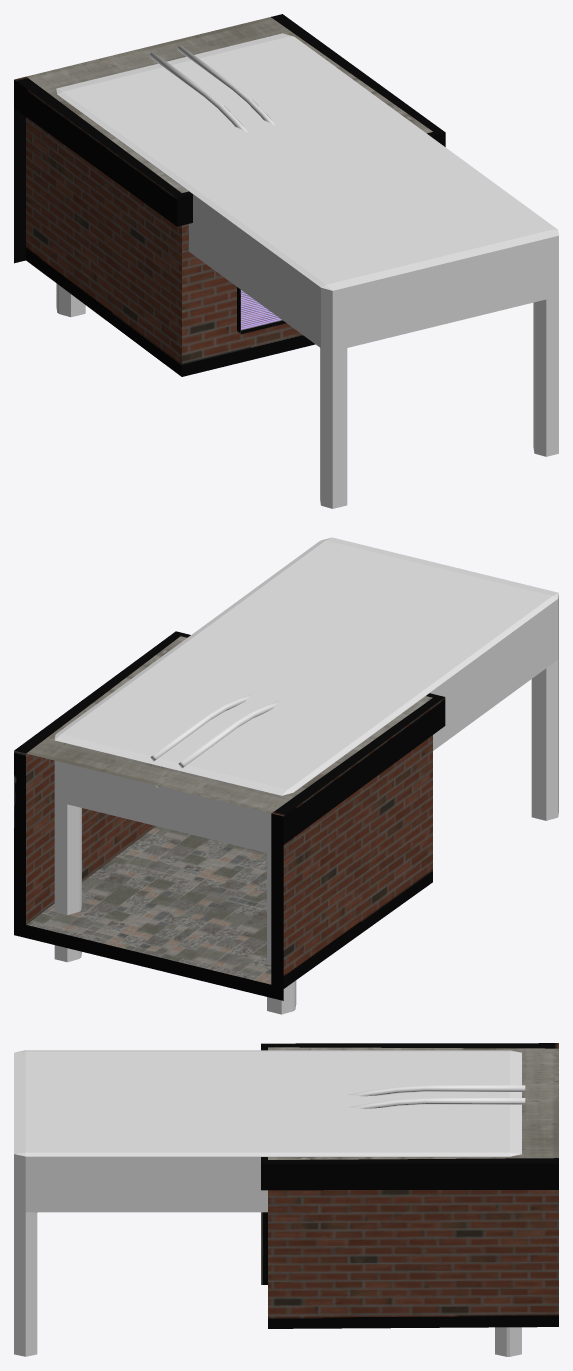
Rendered from Rail4.fbx.
3 renders of one model, top to bottom at view 1: azimuth 30°, elevation 25°; view 2: azimuth 150°, elevation 25°; view 3: azimuth 270°, elevation 25°, orthographic. The views are drawn at different scales.
Visible parts, largest first — view 1: TableLegs, Wall, Rail, Venetian_slats; view 2: TableLegs, Wall, Rail; view 3: TableLegs, Wall, Rail.
Boxes of the visible parts, x1=… form: TableLegs: x1=56, y1=33, x2=558, y2=508; Wall: x1=14, y1=14, x2=445, y2=376; Rail: x1=148, y1=45, x2=275, y2=132; Venetian_slats: x1=241, y1=290, x2=279, y2=328; TableLegs: x1=54, y1=537, x2=558, y2=1014; Wall: x1=14, y1=631, x2=445, y2=1000; Rail: x1=150, y1=694, x2=278, y2=787; TableLegs: x1=14, y1=1050, x2=521, y2=1356; Wall: x1=261, y1=1043, x2=558, y2=1328; Rail: x1=347, y1=1085, x2=525, y2=1108.
Size of the model in its own units: 227 by 187 by 433.
